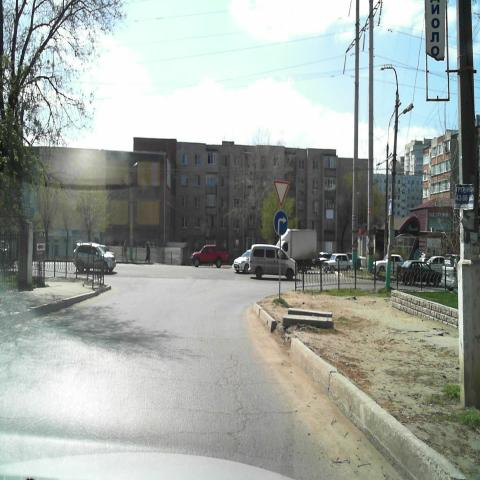4_1_2: (273, 209, 289, 236)
